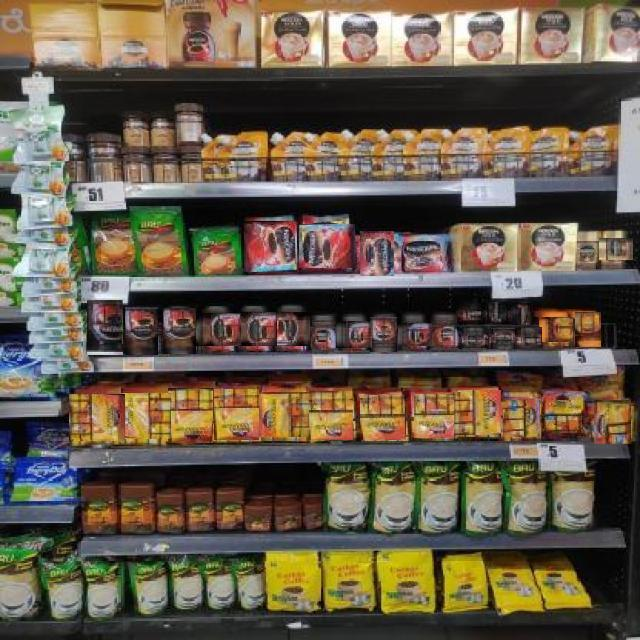Coffee: (243, 222, 297, 272), (114, 392, 171, 439), (68, 394, 125, 441), (167, 388, 213, 443), (300, 223, 355, 268), (257, 392, 312, 437), (214, 388, 259, 440), (309, 390, 353, 440), (359, 394, 406, 440), (453, 391, 501, 435), (86, 299, 123, 355), (544, 392, 585, 437), (413, 393, 454, 438), (124, 307, 158, 355), (266, 312, 313, 346), (162, 307, 196, 354), (405, 237, 449, 273), (595, 400, 631, 444), (231, 312, 277, 346), (195, 312, 241, 346), (360, 232, 394, 276), (503, 400, 540, 437), (430, 316, 459, 351), (336, 320, 372, 348), (310, 316, 338, 351), (574, 311, 601, 347), (370, 316, 397, 352), (595, 238, 633, 260), (540, 317, 573, 342), (398, 322, 432, 346), (578, 232, 599, 270), (463, 327, 487, 349), (518, 327, 542, 348), (491, 328, 515, 349), (459, 302, 482, 323), (512, 302, 533, 325), (486, 302, 506, 323)
